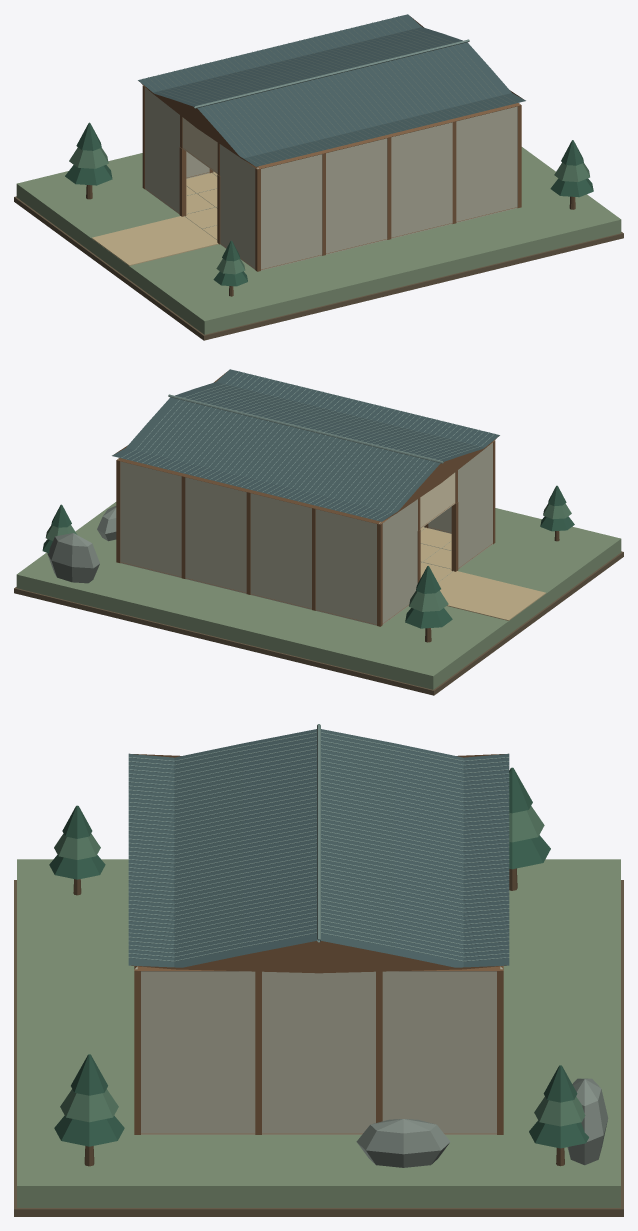
Rendered from mirror-store.obj.
3 views of the same model, one above another, from view 1: azimuth 30°, elevation 25°; view 2: azimuth 150°, elevation 25°; view 3: azimuth 270°, elevation 25° (orthographic). The views are drawn at different scales.
Visible parts, largest first — view 1: ground, walls, roofs, vegetation; view 2: ground, walls, roofs, vegetation, details; view 3: ground, roofs, walls, vegetation, details.
Part boxes in pixels (x1,y1,x2,y2): ground: (14, 147, 623, 340); walls: (142, 85, 521, 271); roofs: (138, 14, 525, 173); vegetation: (65, 122, 593, 296); ground: (14, 502, 623, 695); walls: (116, 440, 495, 626); roofs: (112, 369, 499, 530); vegetation: (42, 485, 574, 642); details: (47, 506, 116, 583); ground: (14, 859, 623, 1216); roofs: (128, 724, 509, 973); walls: (134, 966, 503, 1134); vegetation: (49, 767, 588, 1166); details: (356, 1078, 608, 1167).
Size of the model in its own units: 64.5 by 21.09 by 50.5.
